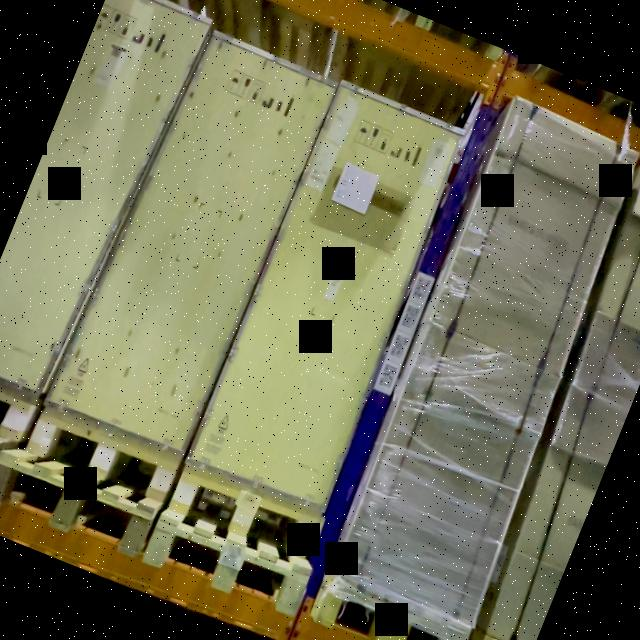box: (189, 81, 464, 508), (58, 32, 333, 456), (330, 326, 560, 624), (431, 106, 637, 368)
